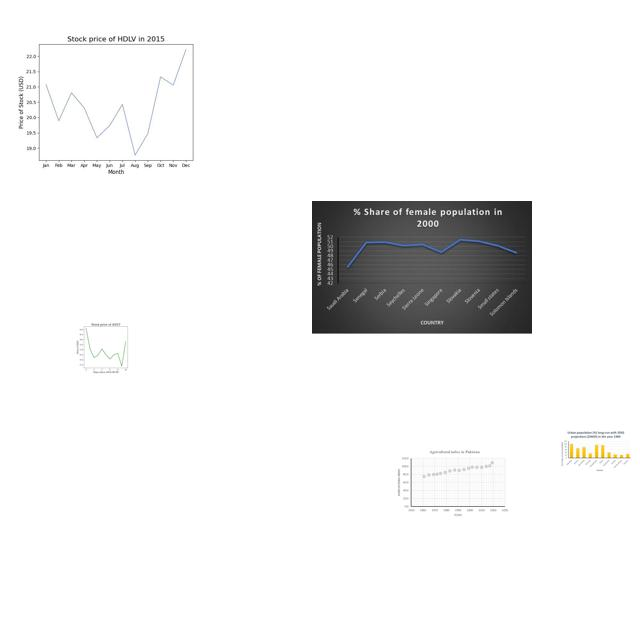Graph: (13, 26, 214, 177), (312, 201, 532, 334), (394, 449, 510, 517), (69, 320, 141, 374), (559, 430, 632, 472)
